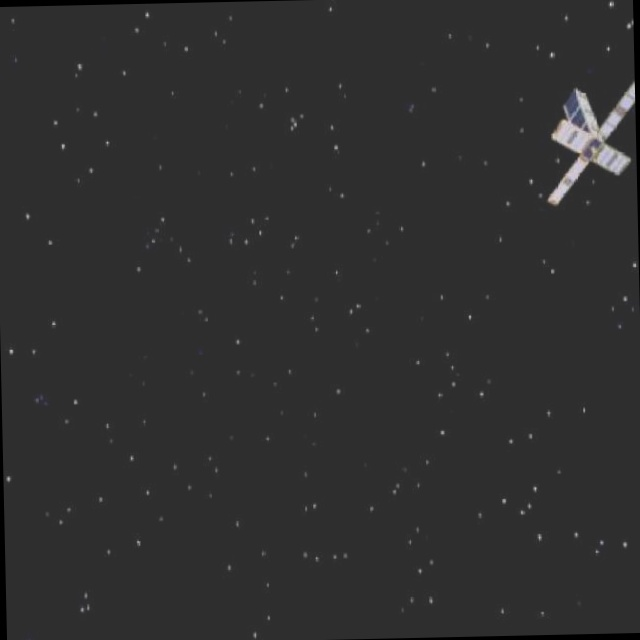medium_debris: (535, 79, 638, 209)
